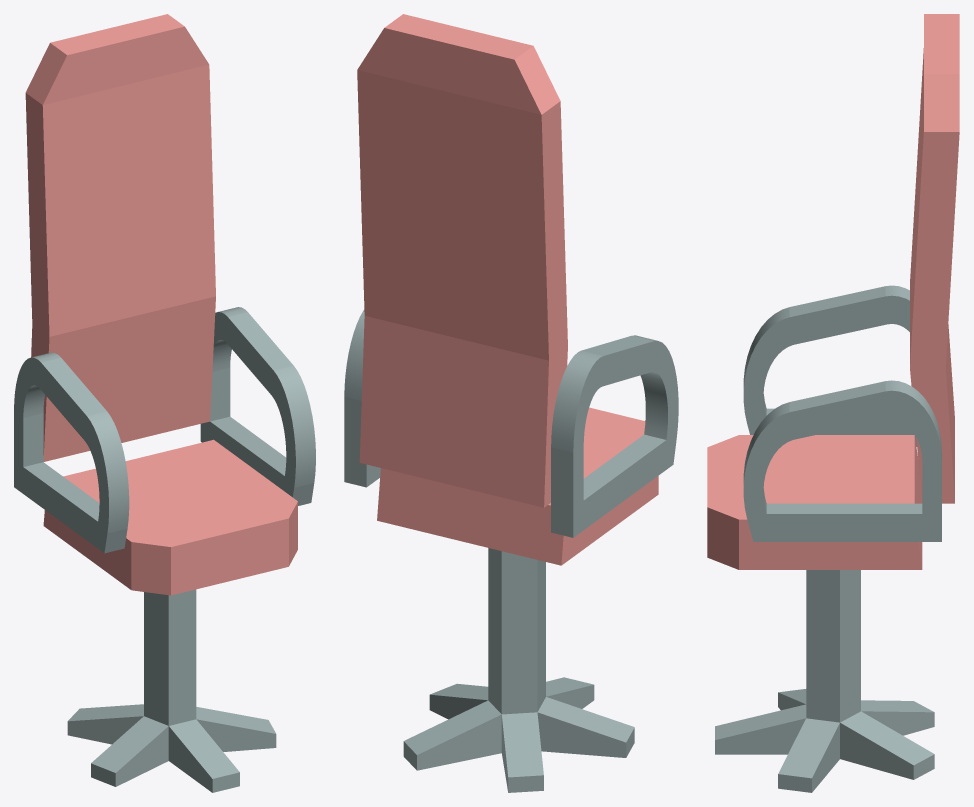
Rendered from office-chair.glb.
3 renders of one model, left to right at view 1: azimuth 30°, elevation 25°; view 2: azimuth 150°, elevation 25°; view 3: azimuth 270°, elevation 25°, orthographic. The views are drawn at different scales.
Visible parts, largest first — view 1: chair, chairDesk(Clone); view 2: chair, chairDesk(Clone); view 3: chair, chairDesk(Clone).
Boxes of the visible parts, x1=… form: chair: x1=14, y1=14, x2=315, y2=595; chairDesk(Clone): x1=67, y1=589, x2=276, y2=792; chair: x1=344, y1=14, x2=678, y2=565; chairDesk(Clone): x1=403, y1=548, x2=634, y2=792; chair: x1=707, y1=14, x2=959, y2=569; chairDesk(Clone): x1=715, y1=570, x2=934, y2=792.
Size of the model in its own units: 0.4198 by 1.31 by 0.4255.
